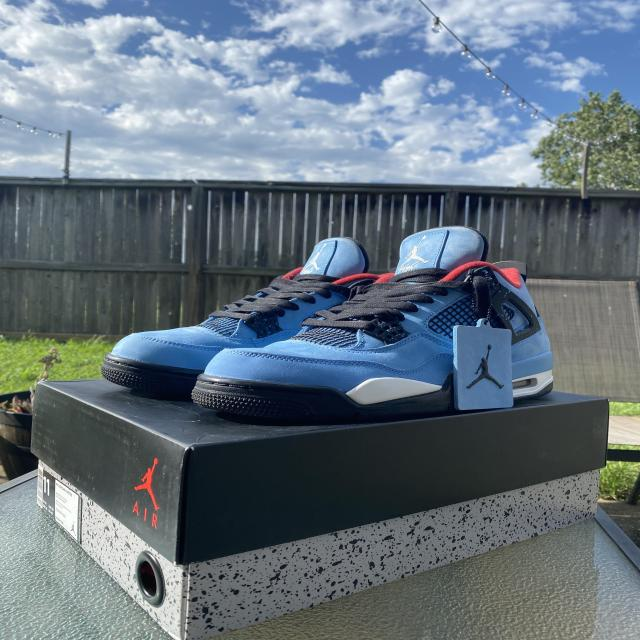shoe: (186, 225, 558, 422), (98, 235, 374, 394)
